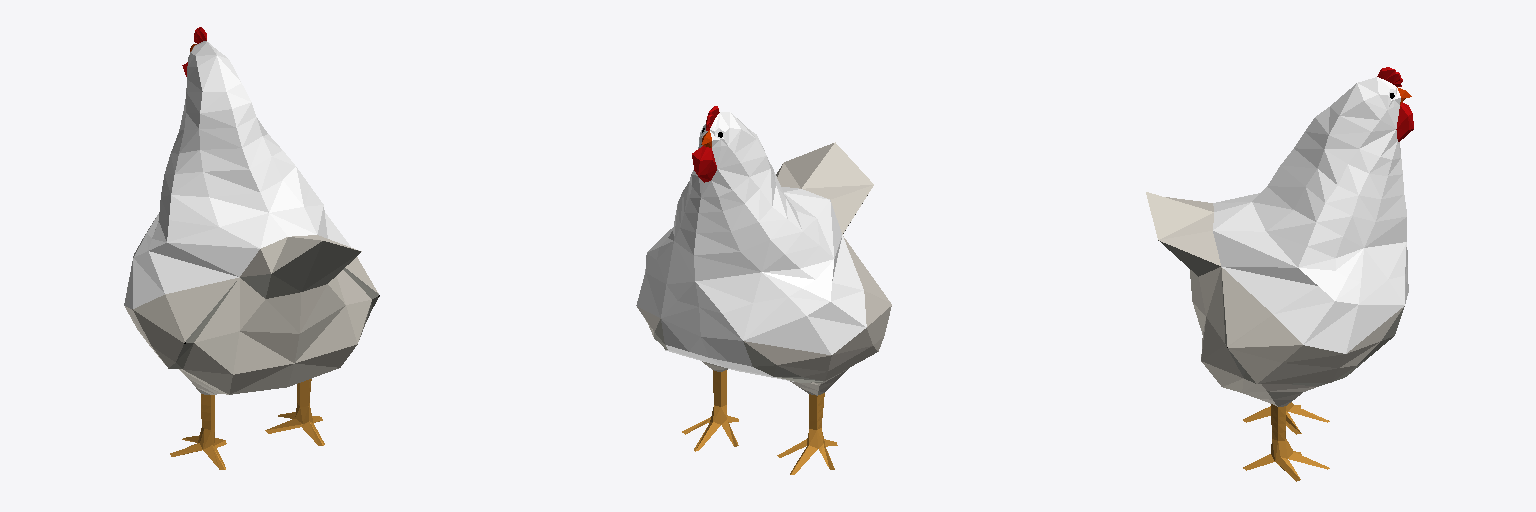
File: pollo.obj
3 views of the same model, side by side, from view 1: azimuth 30°, elevation 25°; view 2: azimuth 150°, elevation 25°; view 3: azimuth 270°, elevation 25° (orthographic).
Visible parts, largest first — view 1: Chicken; view 2: Chicken; view 3: Chicken.
Part boxes in pixels (left/top/right/bottom): Chicken: left=124, top=27, right=379, bottom=469; Chicken: left=636, top=106, right=891, bottom=474; Chicken: left=1146, top=67, right=1413, bottom=481.
Bounding box in the file's own units: 214 × 349 × 225.